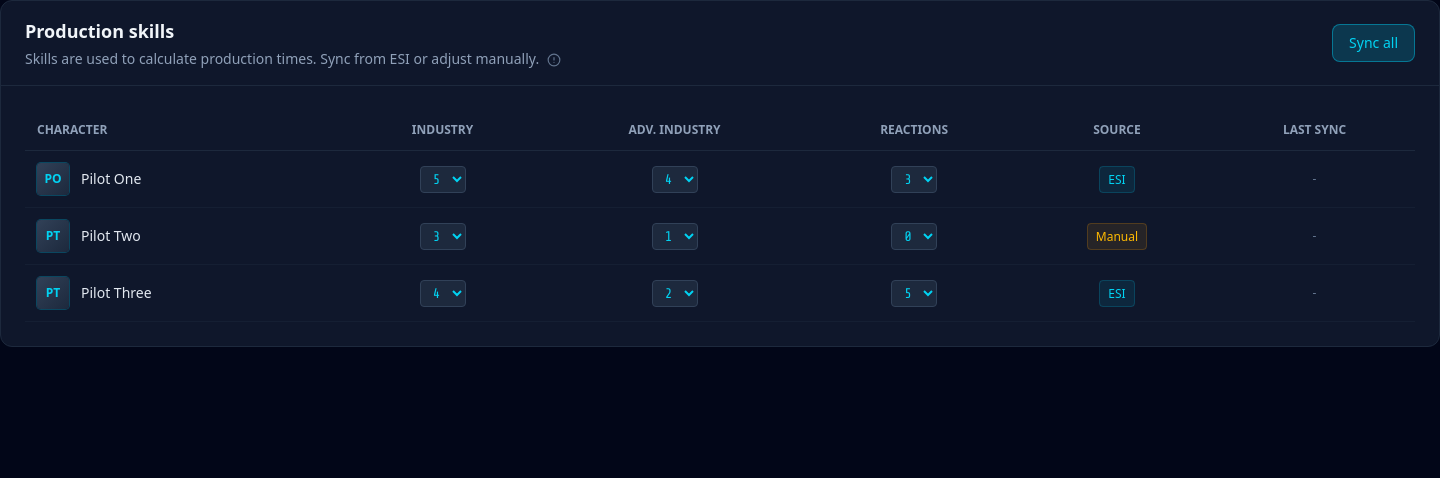
Test case: SkillsConfig skill sync failures › names a character whose token lacks the skills scope with a link to reconnect it and keeps the skills
The width and height of the screenshot is (1440, 478).
Click the button "Sync all" at (1374, 43), box [1332,24,1415,62]
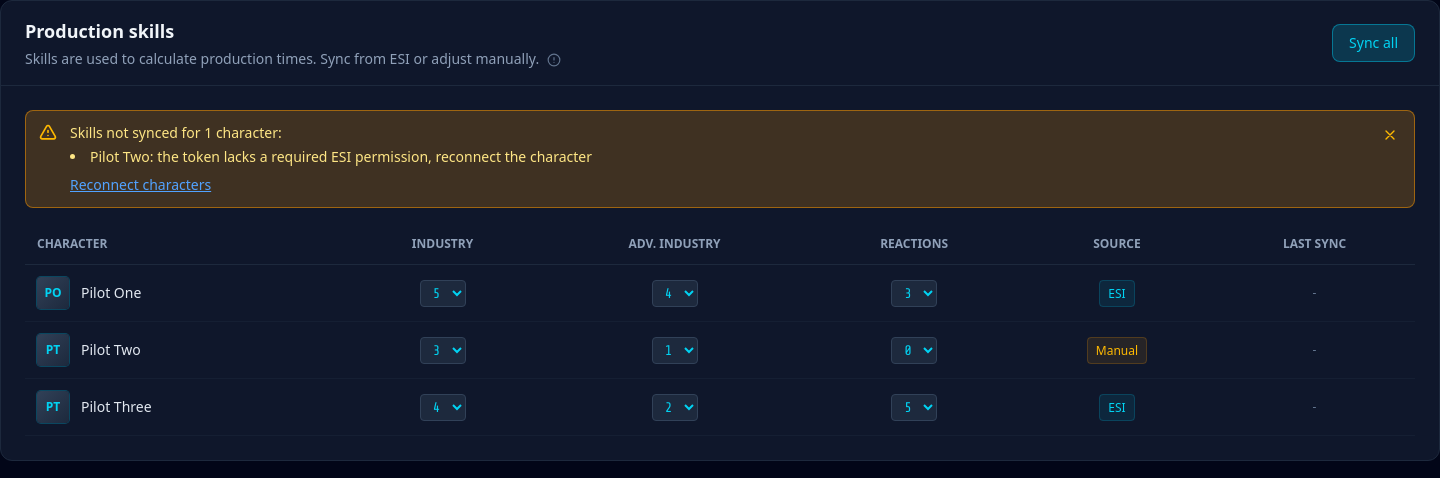
Expected: the number of elements with test id "skills-sync-failures" is 1, [25,110,1415,208]
Expected: the element with test id "skills-sync-failures" shows "Skills not synced for 1 character:", [70,123,282,142]
